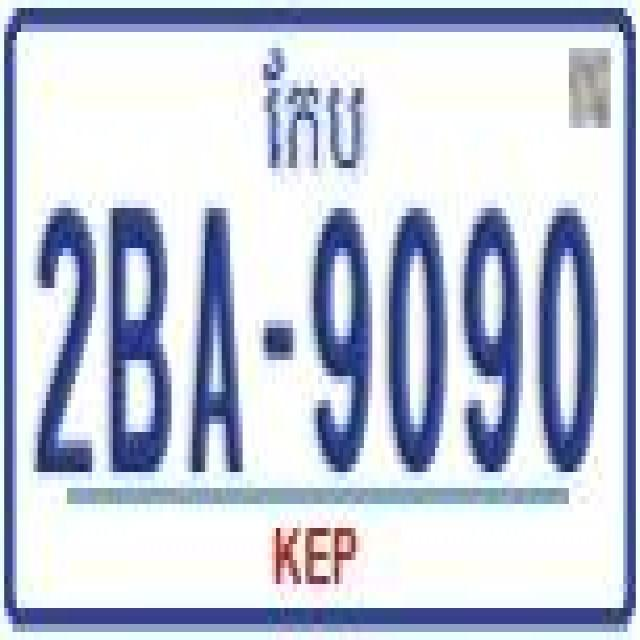Kep: (259, 40, 372, 180)
